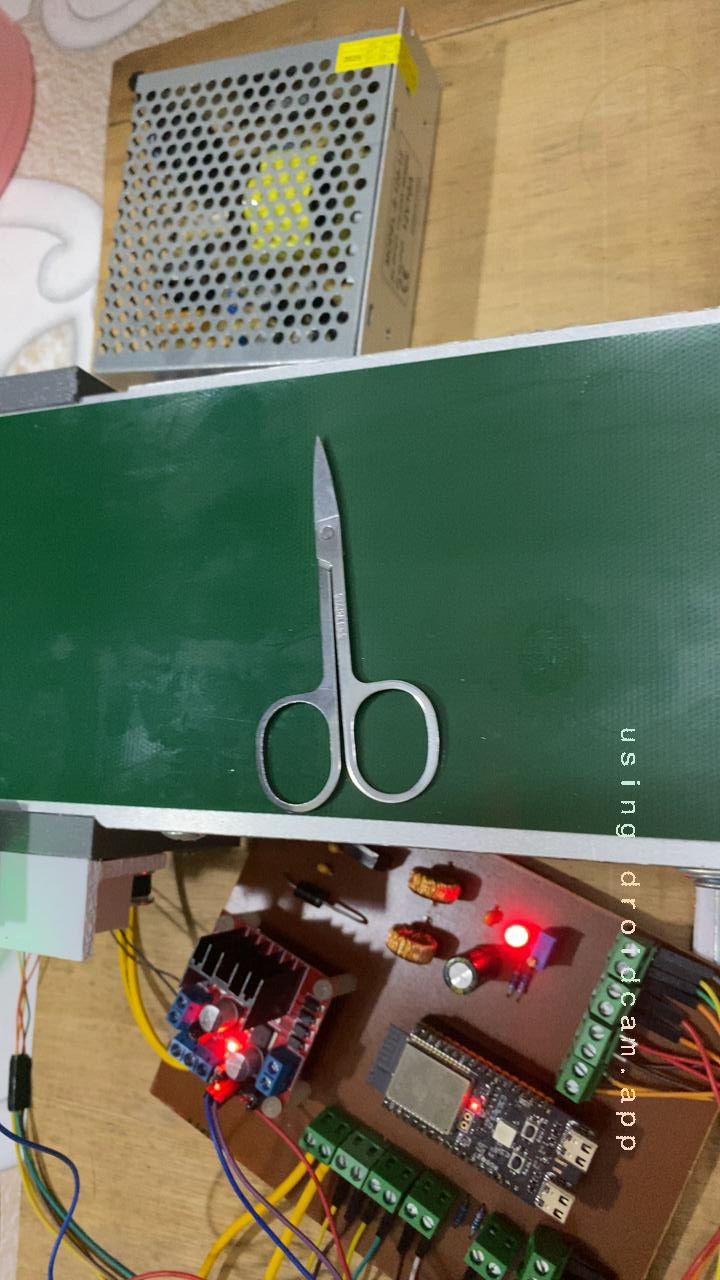scissor: (213, 418, 466, 821)
